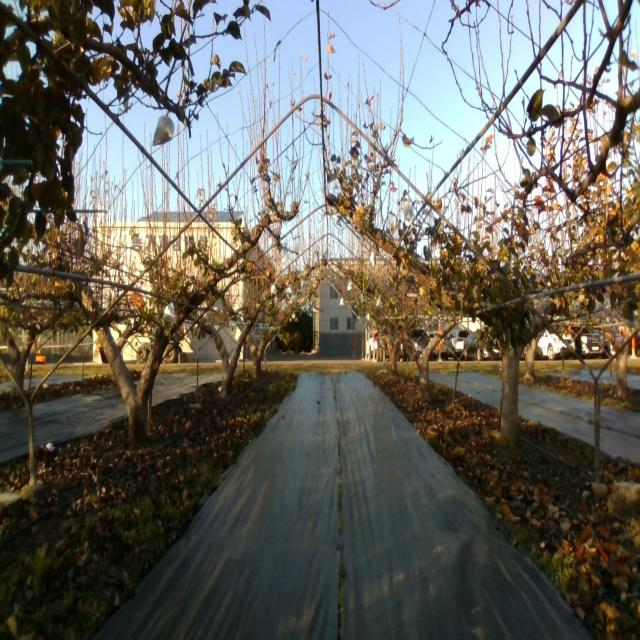pearbags: (152, 116, 175, 148), (162, 302, 177, 324), (401, 201, 413, 227)
